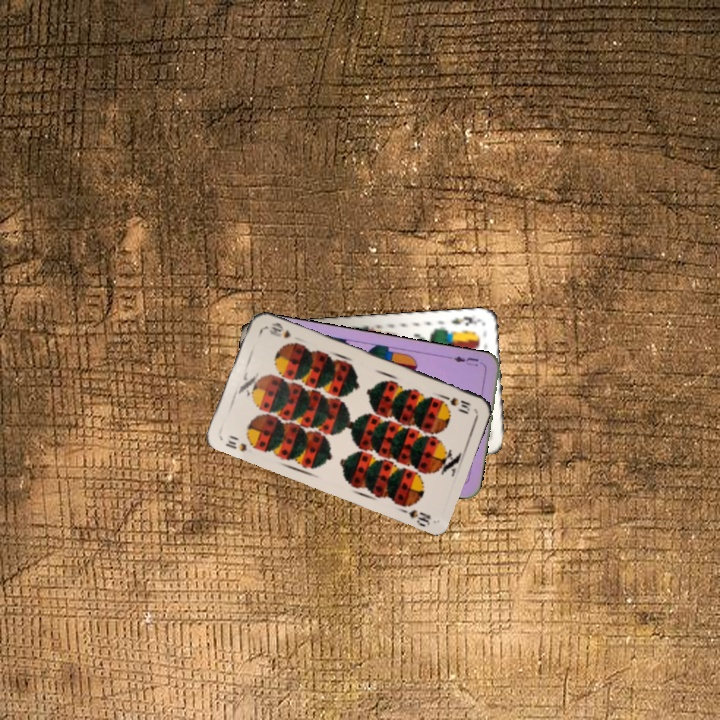EK: (448, 312, 482, 329)
EU: (450, 352, 481, 369)
S10: (438, 391, 473, 414), (221, 436, 249, 454)
